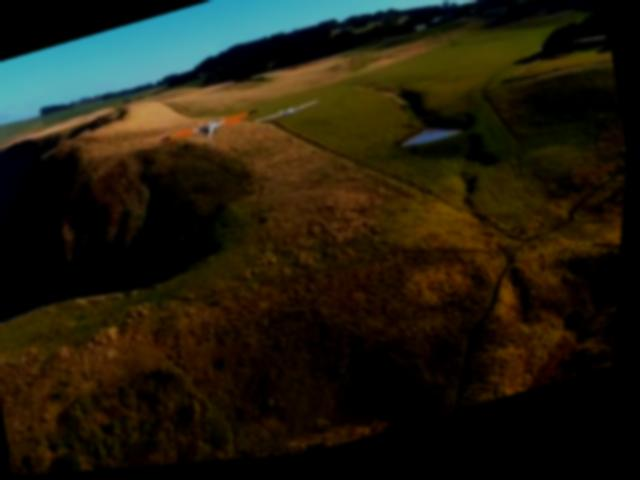uav: (155, 106, 260, 156), (259, 97, 323, 127)
